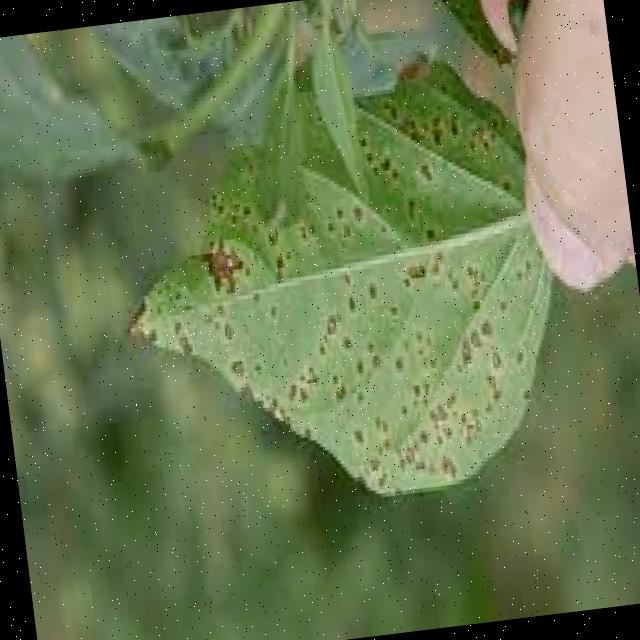leaf spot: (104, 82, 554, 550)
